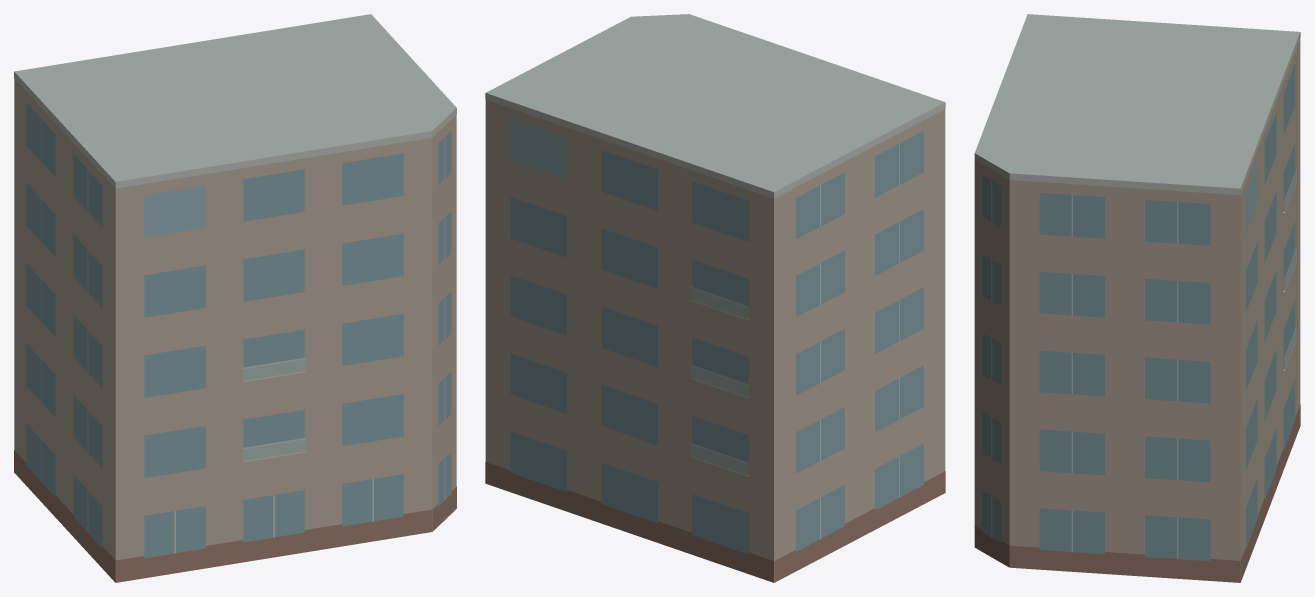
The model's file is survey-upis-33002790.glb.
3 views of the same model, side by side, from view 1: azimuth 30°, elevation 25°; view 2: azimuth 150°, elevation 25°; view 3: azimuth 270°, elevation 25° (orthographic). The views are drawn at different scales.
Visible parts, largest first — view 1: survey-upis-33002790.tmp; view 2: survey-upis-33002790.tmp; view 3: survey-upis-33002790.tmp.
Boxes of the visible parts, x1,y1,x2,y2 form: survey-upis-33002790.tmp: [14, 14, 456, 582]; survey-upis-33002790.tmp: [485, 14, 945, 582]; survey-upis-33002790.tmp: [974, 14, 1300, 582].
Size of the model in its own units: 13.88 by 14.6 by 10.94.
